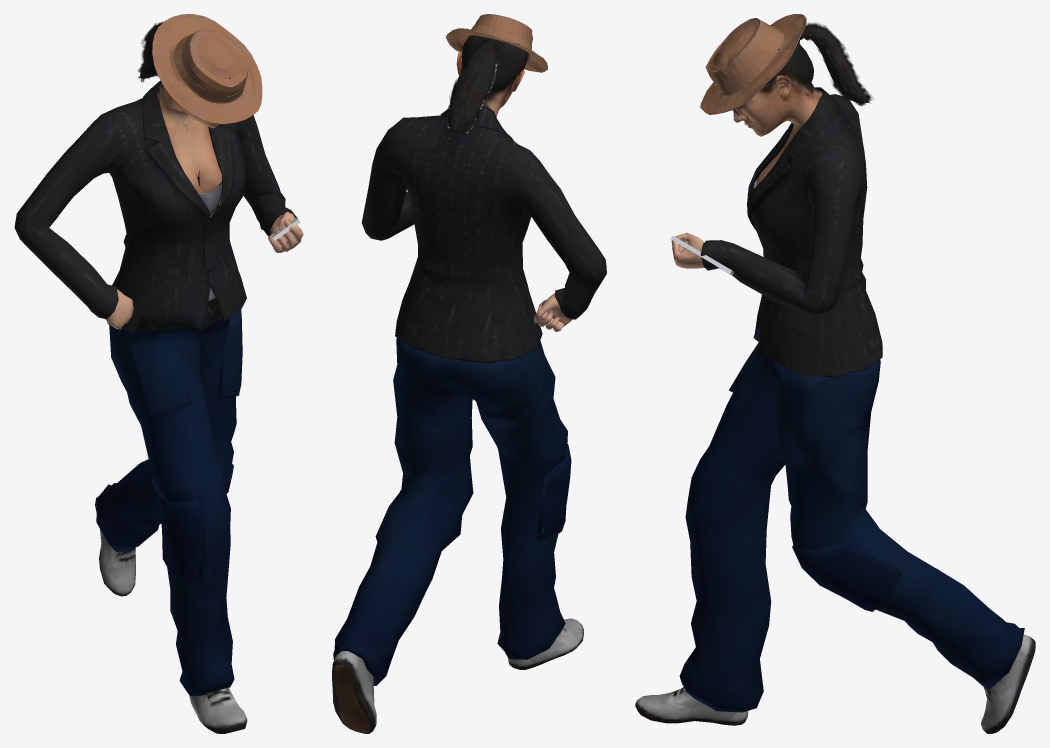
The picture shows the model from 3 angles, left to right: view 1: azimuth 30°, elevation 25°; view 2: azimuth 150°, elevation 25°; view 3: azimuth 270°, elevation 25°; orthographic projection. The views are drawn at different scales.
Visible parts, largest first — view 1: p04568; view 2: p04568; view 3: p04568.
Boxes of the visible parts, <box> form: p04568: <box>14,14,303,733</box>; p04568: <box>332,14,606,733</box>; p04568: <box>635,14,1035,733</box>.
Size of the model in its own units: 0.6214 by 1.55 by 0.7949.
1 material, 1 textured.
